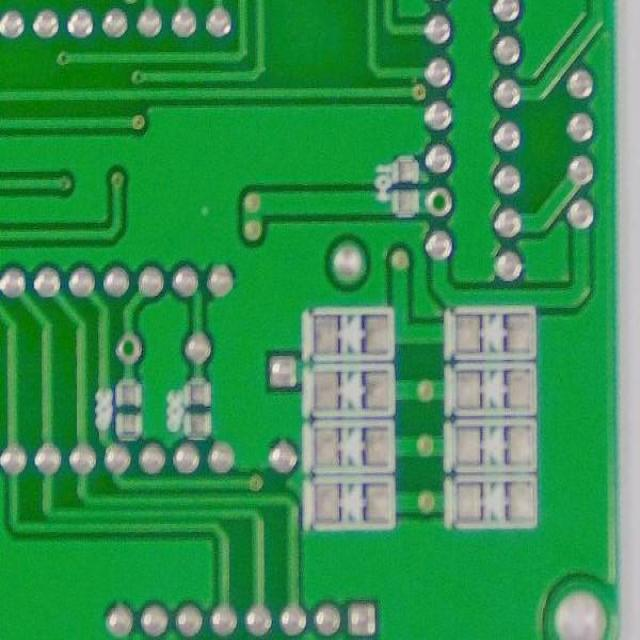missing hole: (111, 324, 145, 371), (422, 183, 457, 225)
